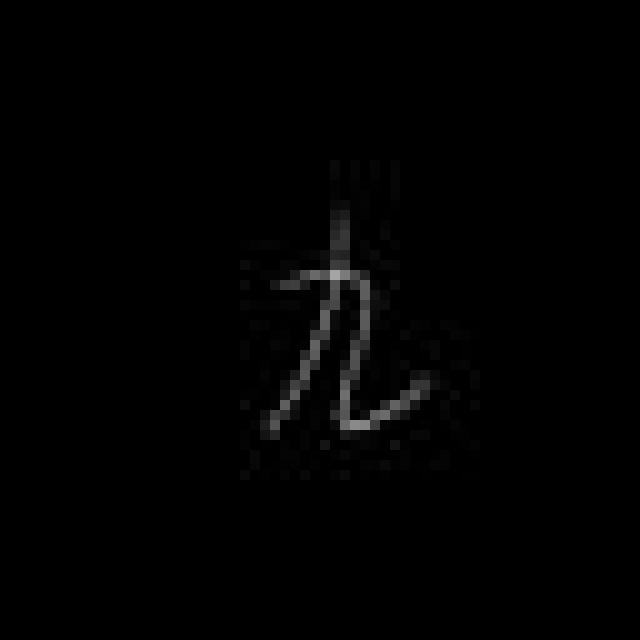9 -nine-: (257, 223, 434, 448)
